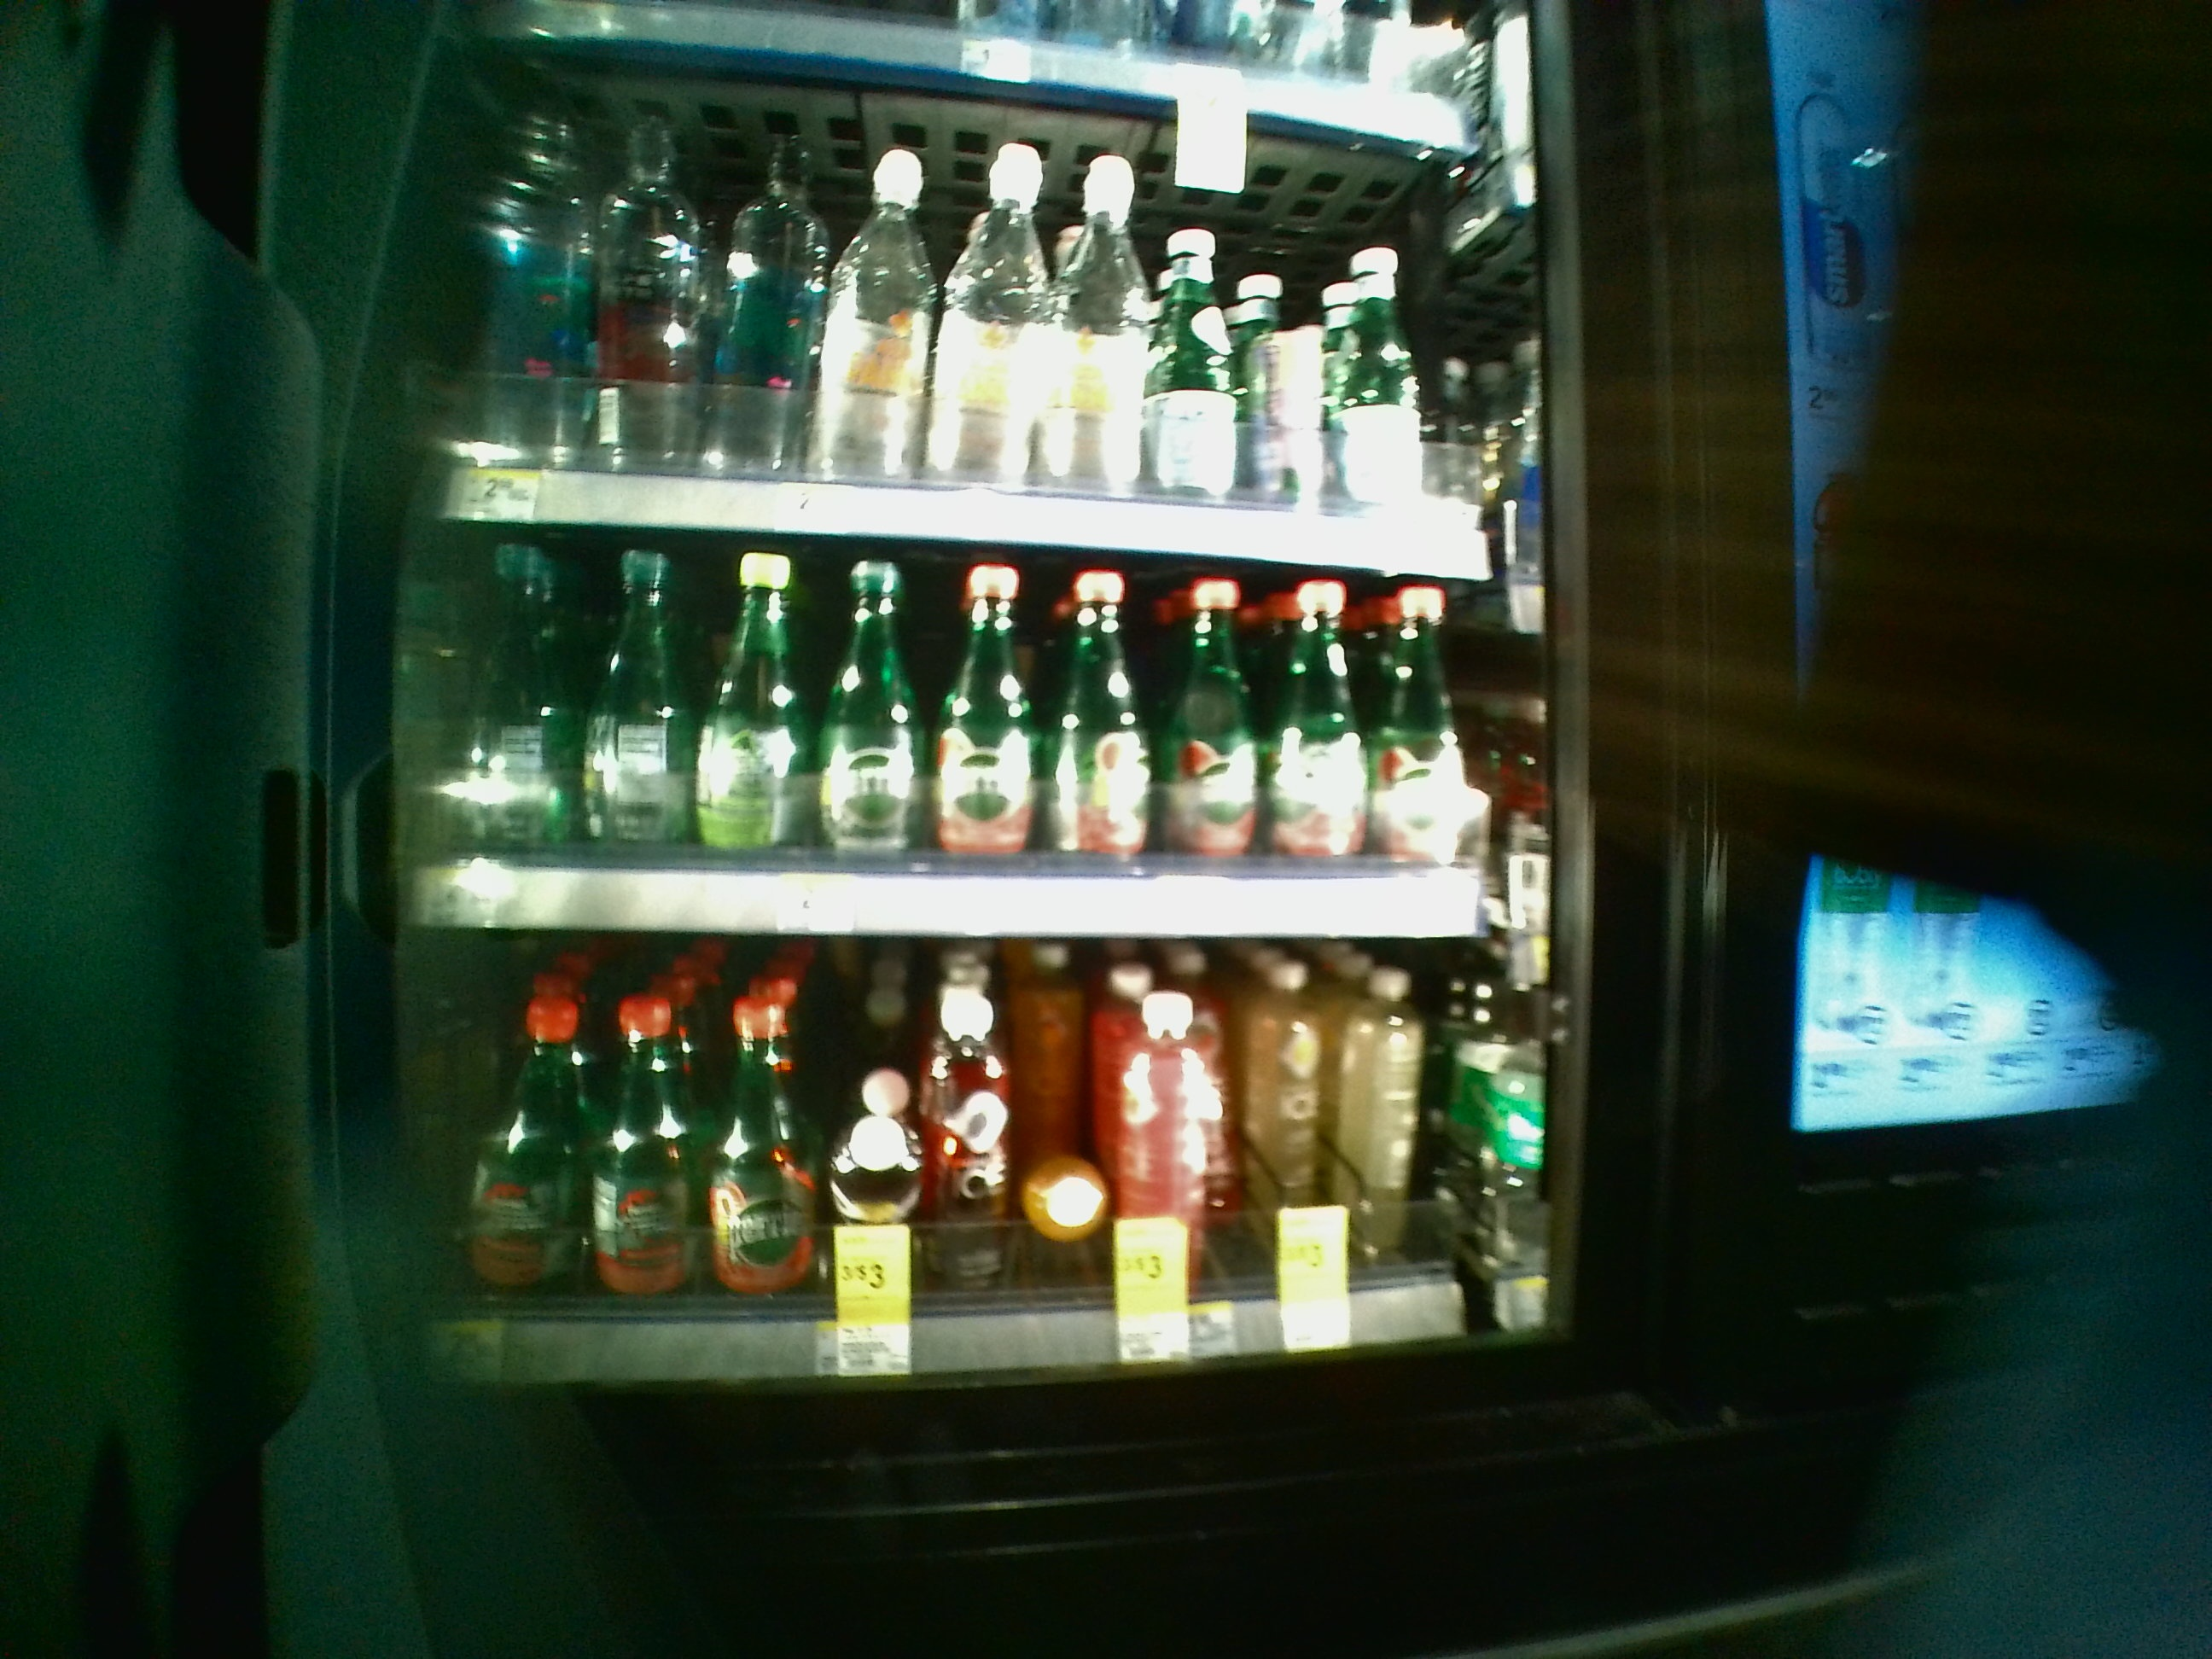shelf: (387, 939, 1566, 1389), (383, 521, 1576, 939)
